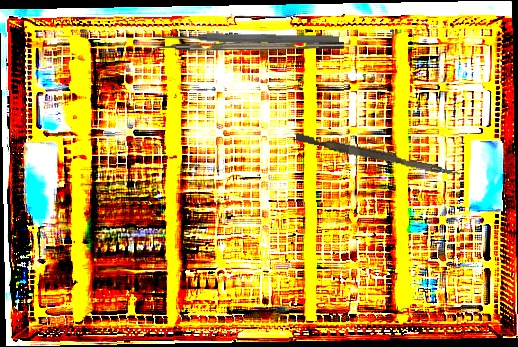Chopper: (148, 42, 344, 58)
Pusher: (294, 133, 462, 177), (155, 30, 340, 46)
